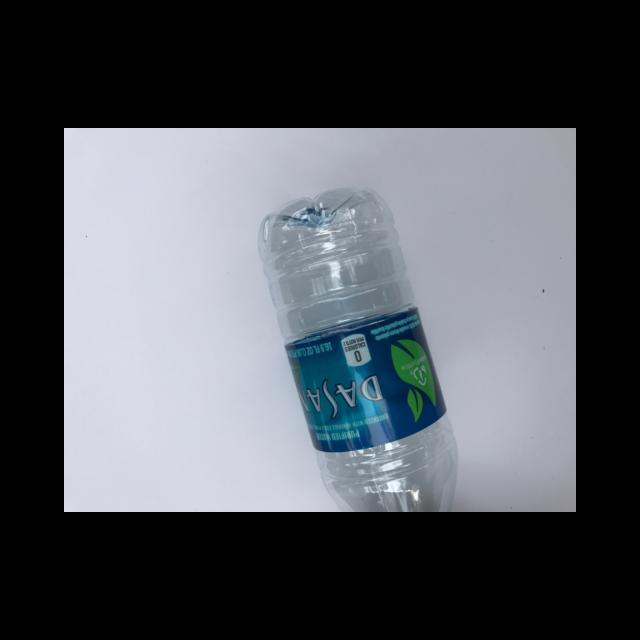plastic: (257, 187, 458, 511), (283, 307, 446, 452)
